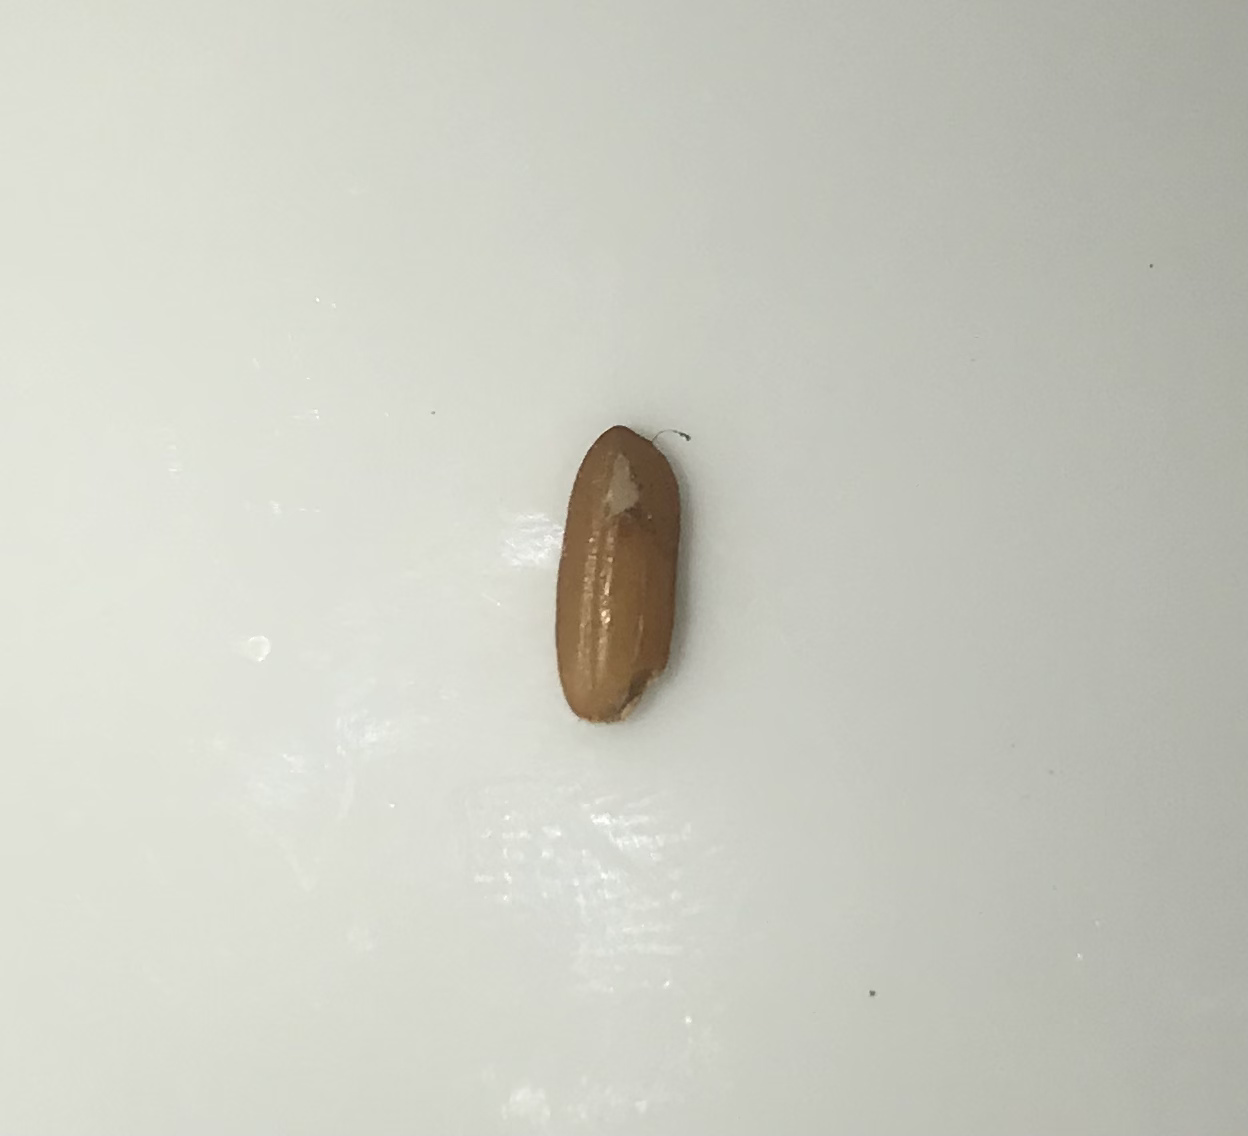Gao Lut Dien Bien: (536, 420, 706, 735)
